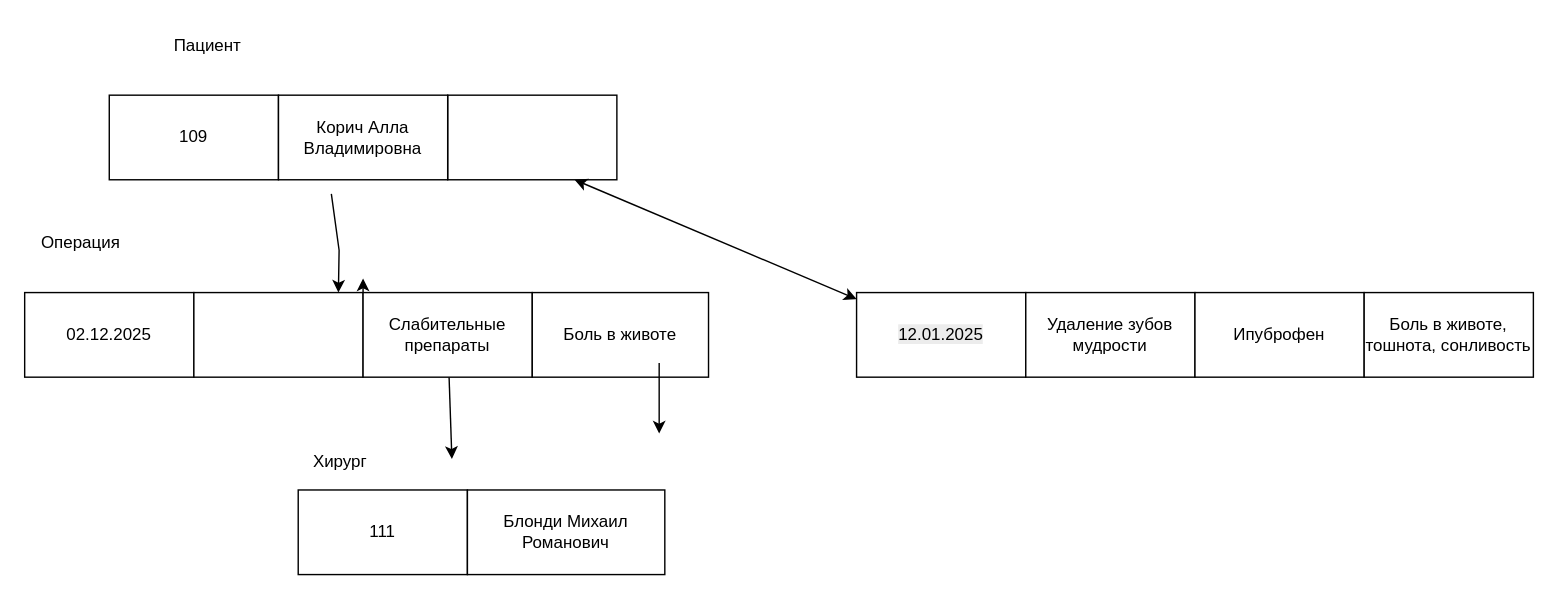
This 1558x599 diagram has some shape labels left out. Each missing label, with the centre of its shape:
"г. Москва ул.Толстого, д.16, кв. 9" goes at point (531, 137).
"Удаление аппендицита" goes at point (277, 334).
